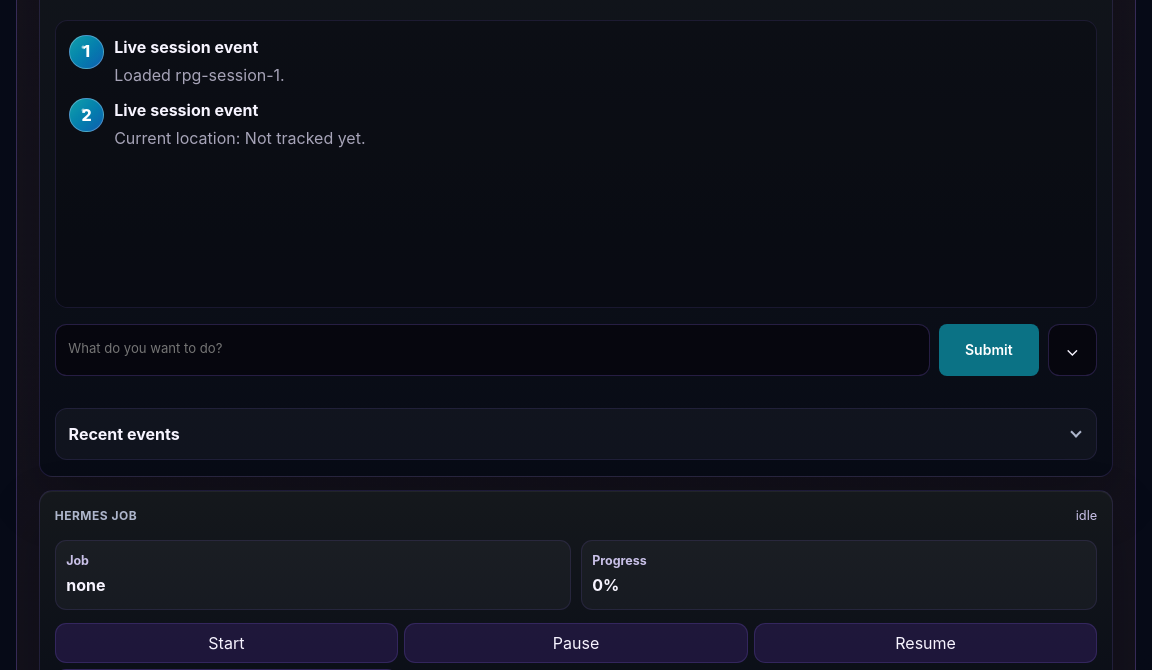
it: RpgWorkspace › does not render empty array submitted RPG responses as narrator text
The width and height of the screenshot is (1152, 670).
(page scrolled)
Expected: the dropdown named "Session" shows "rpg-session-1", [1048,324,1097,376]
Type "Listen to the hearth-side conversation" into the text box named "Command" at coordinates (492, 350), box [55,324,930,376]
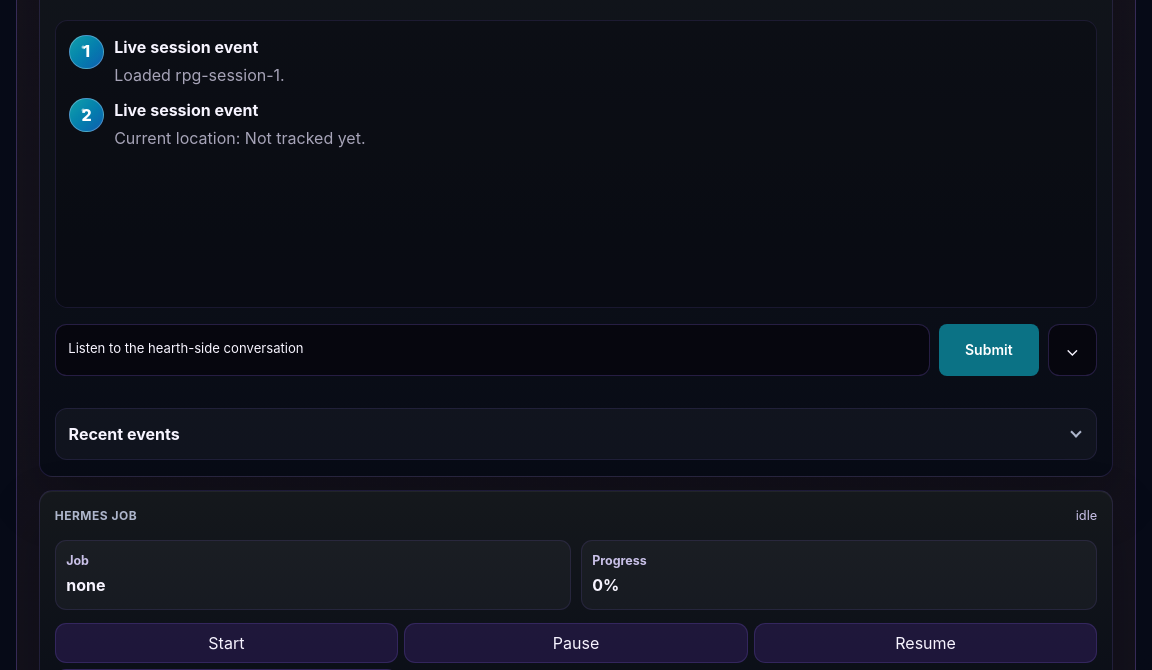
Click the button with aria-label "Queue RPG turn" at coordinates (989, 350), box [939,324,1039,376]
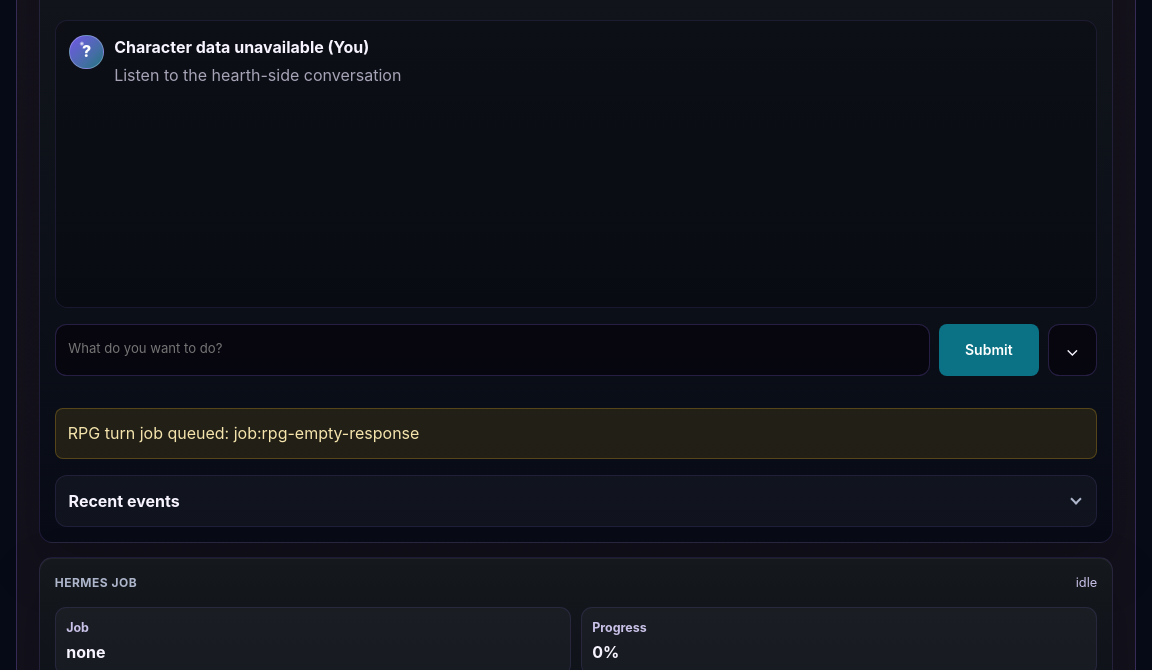
Expected: the text "Listen to the hearth-side conversation" is shown, [114,65,401,85]
